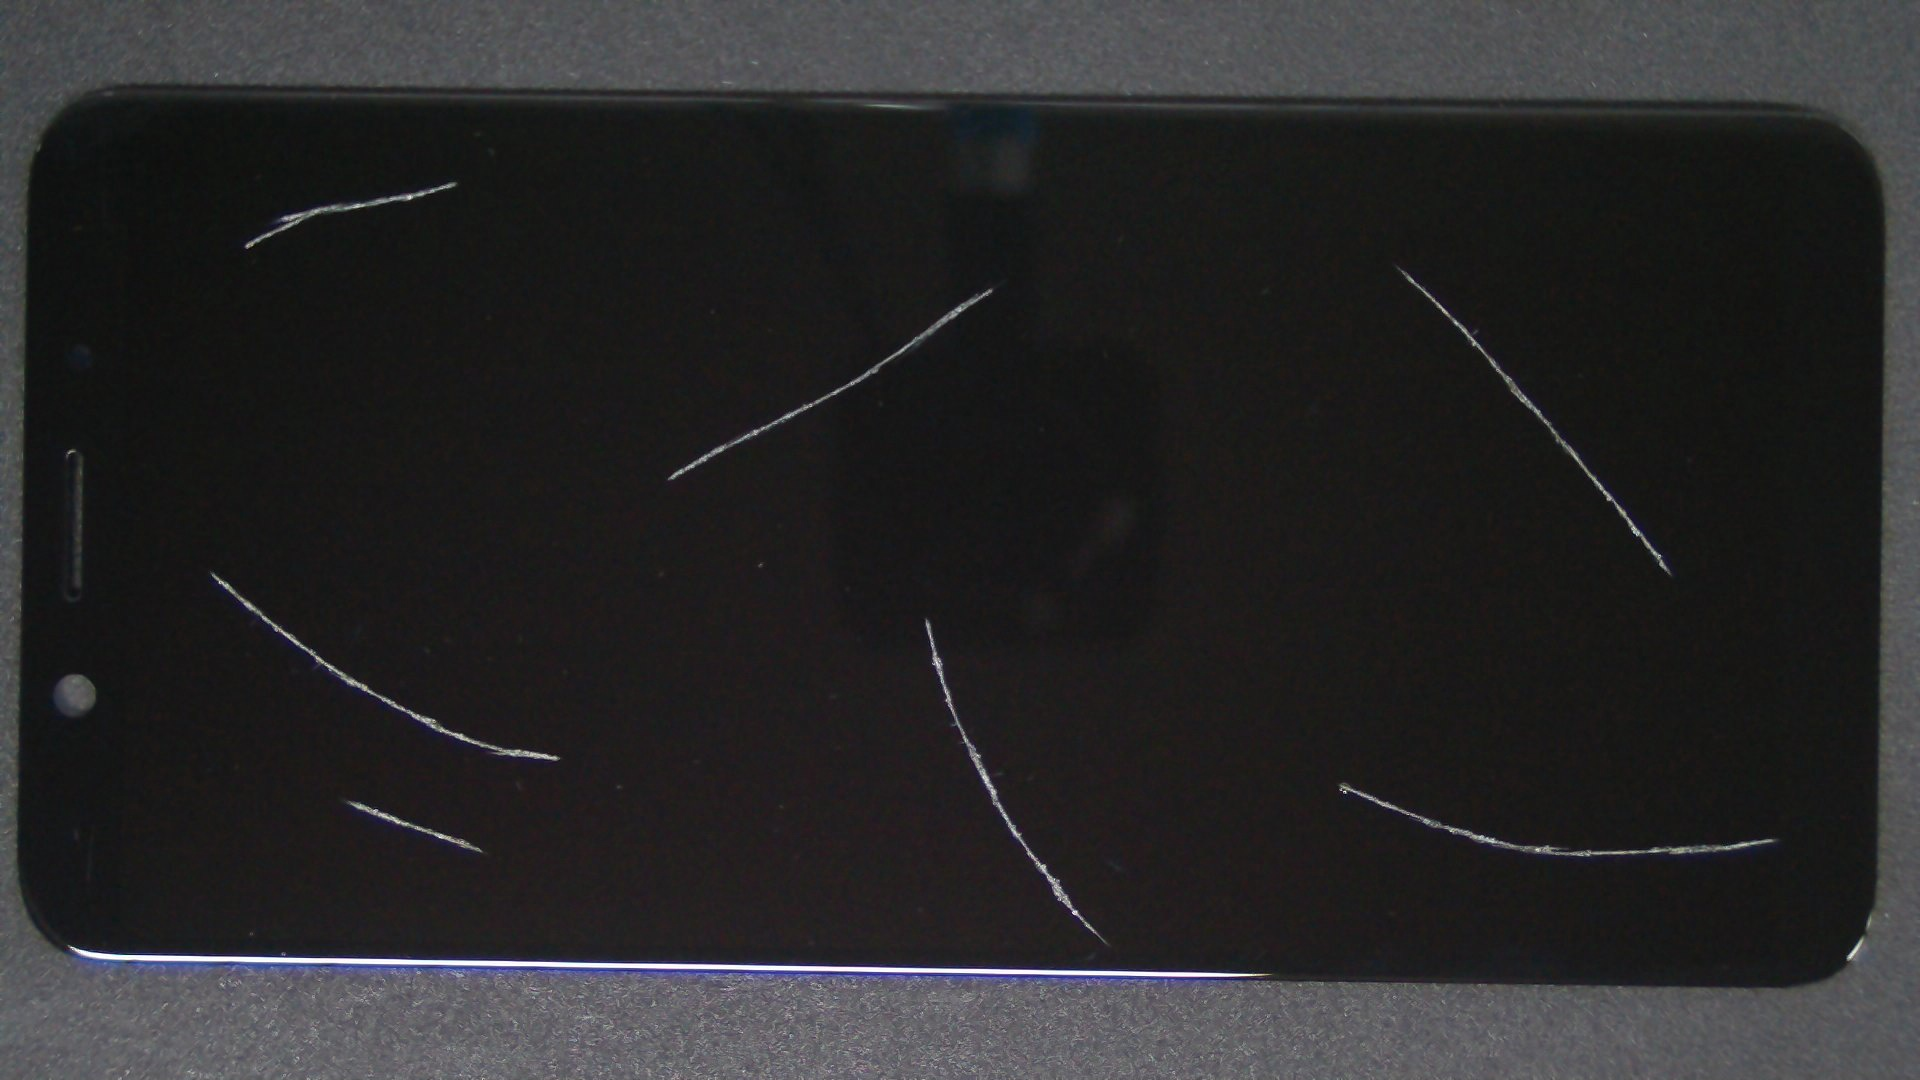oil: (671, 389, 1920, 1080), (463, 307, 1389, 924), (700, 132, 1920, 400), (497, 141, 1481, 431), (171, 398, 513, 1080), (108, 285, 320, 856), (225, 90, 674, 270)
